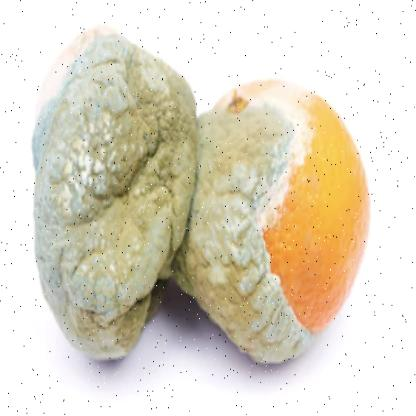rotten: (32, 21, 373, 371)
